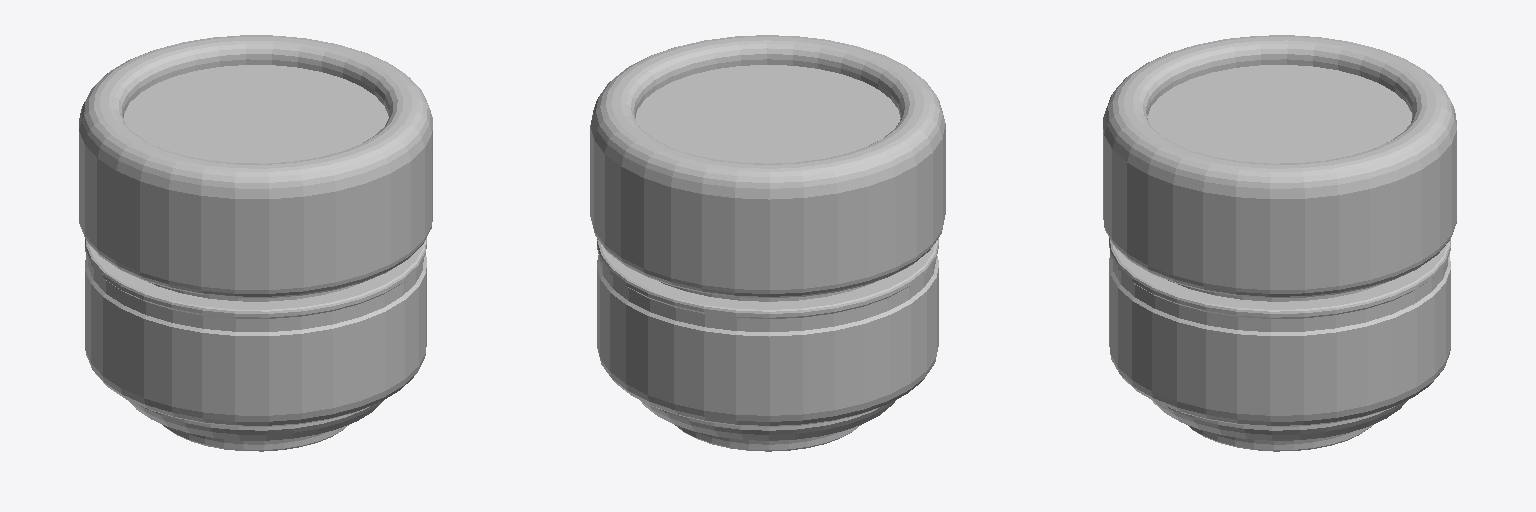
Rendered from SetA_PottedPlant_Style_02.obj.
The picture shows the model from 3 angles: view 1: azimuth 30°, elevation 25°; view 2: azimuth 150°, elevation 25°; view 3: azimuth 270°, elevation 25°; orthographic projection.
Parts seen in each view (by area): view 1: SetA_PottedPlant_Style_02; view 2: SetA_PottedPlant_Style_02; view 3: SetA_PottedPlant_Style_02.
Part boxes in pixels (left/top/right/bottom): SetA_PottedPlant_Style_02: left=79, top=35, right=432, bottom=451; SetA_PottedPlant_Style_02: left=590, top=35, right=945, bottom=451; SetA_PottedPlant_Style_02: left=1103, top=35, right=1456, bottom=451.
Bounding box in the file's own units: 0.1947 × 0.1857 × 0.1947.